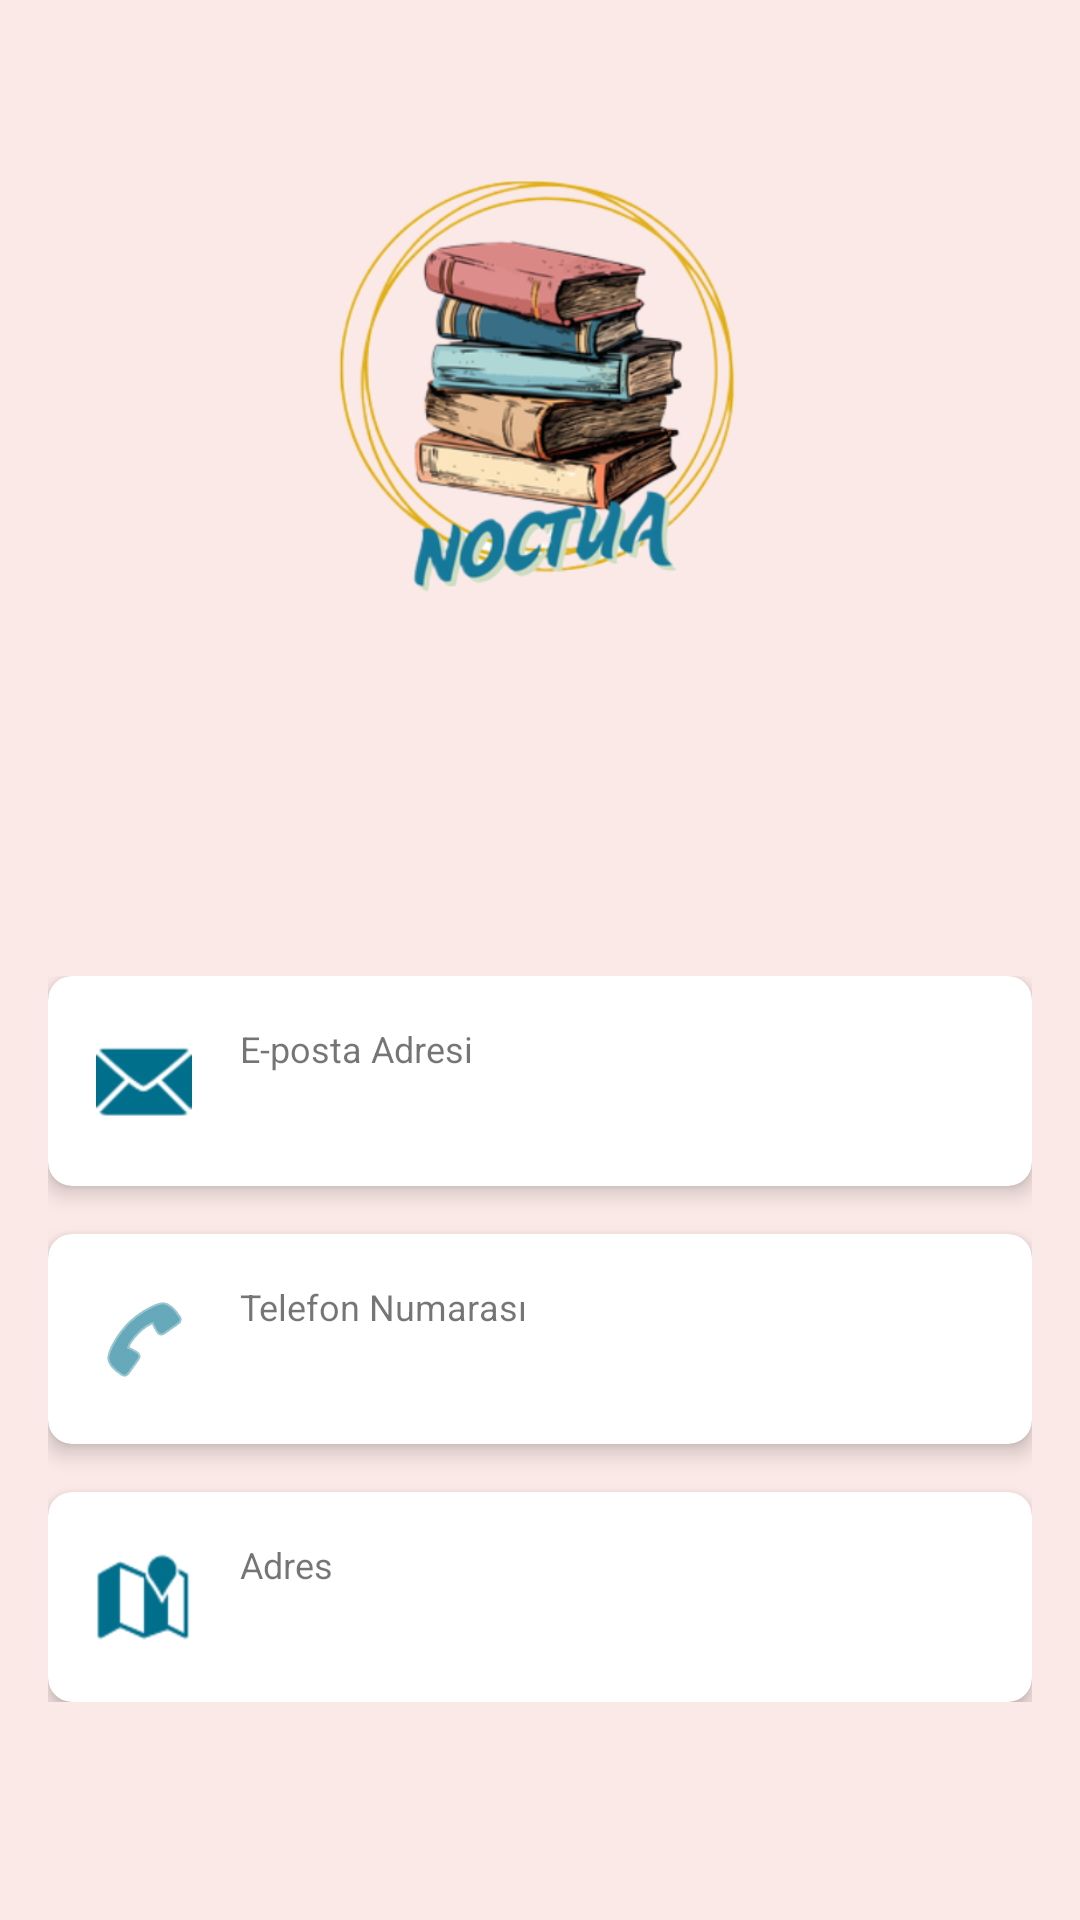

Where to tap for icons on this 1080 × 1920 app screen, as point (x, y):
call: point (144, 1339)
email: point (144, 1082)
map: point (143, 1596)
